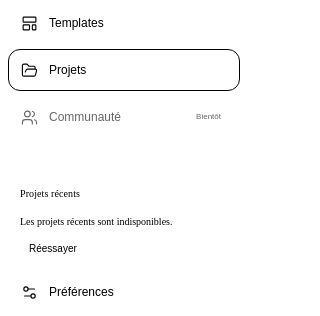
Scenario: reports real metadata failures, retries deliberately and ignores stale unmounted reads
Expected: the text "Les projets récents sont indisponibles." is shown, [20,216,172,227]
Click the button "Réessayer". click: (53, 248)
box: [20,238,86,259]
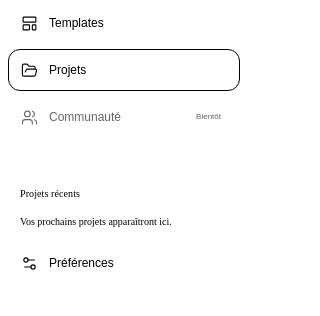
Expected: the text "Vos prochains projets apparaîtront ici." is shown, [20,216,172,227]
